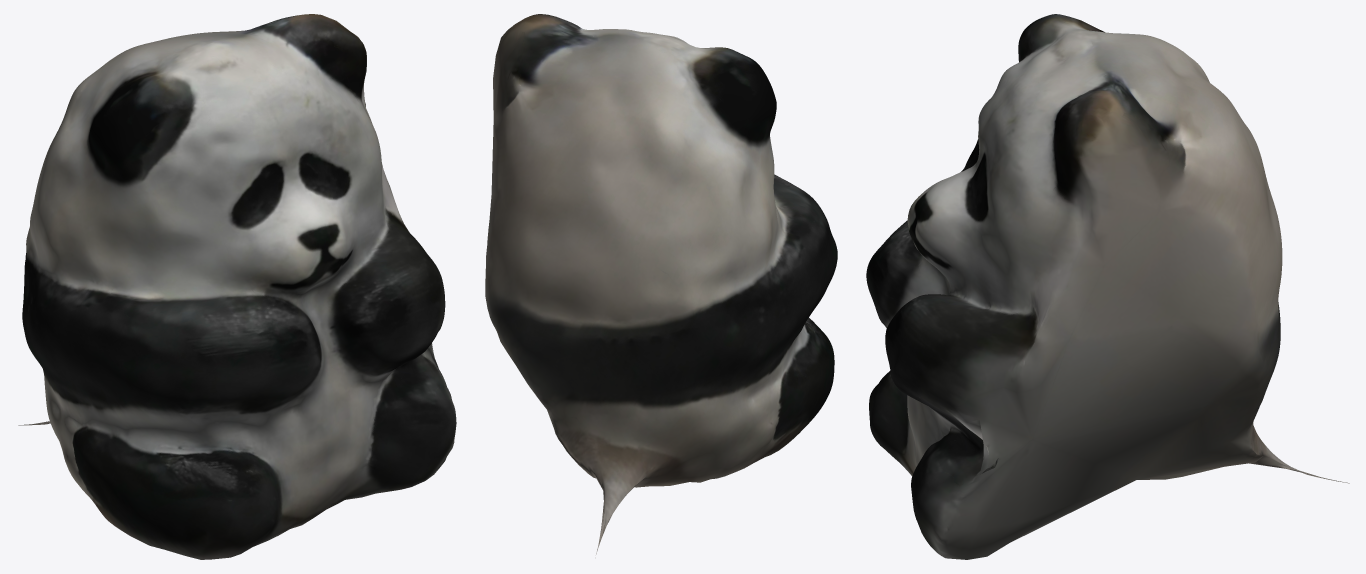
3 views of the same model, side by side, from view 1: azimuth 30°, elevation 25°; view 2: azimuth 150°, elevation 25°; view 3: azimuth 270°, elevation 25° (orthographic). The views are drawn at different scales.
Size of the model in its own units: 0.2993 by 0.3803 by 0.3511.
Materials: 1 (1 with a texture image).
